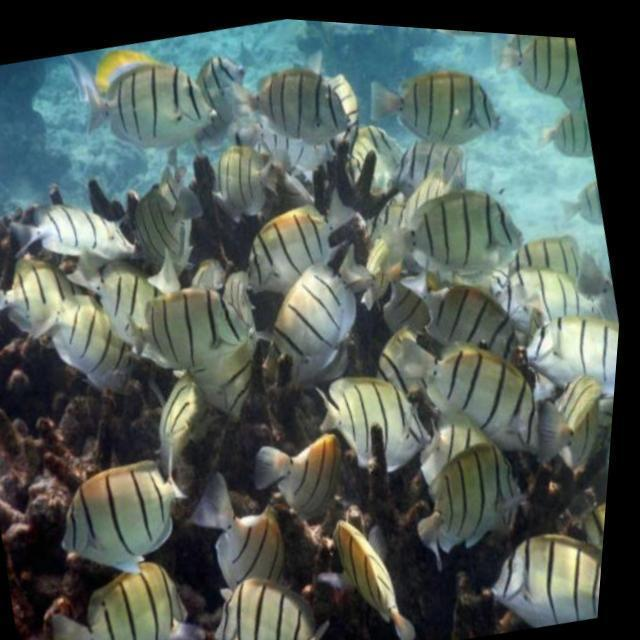Dead Coral: (0, 335, 87, 564)
